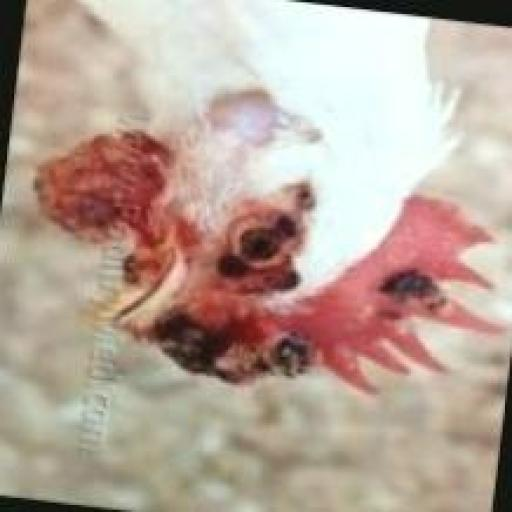disease: (154, 295, 311, 388), (35, 136, 177, 232), (210, 199, 311, 283), (382, 256, 457, 337)
